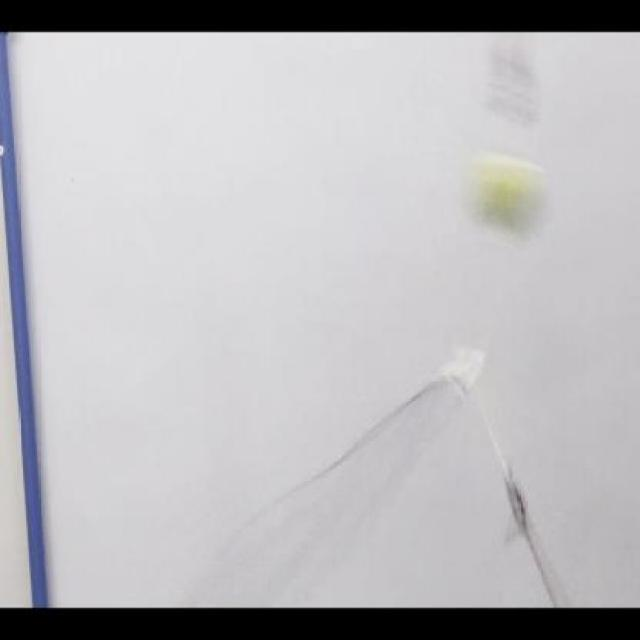baseball: (463, 153, 555, 245)
